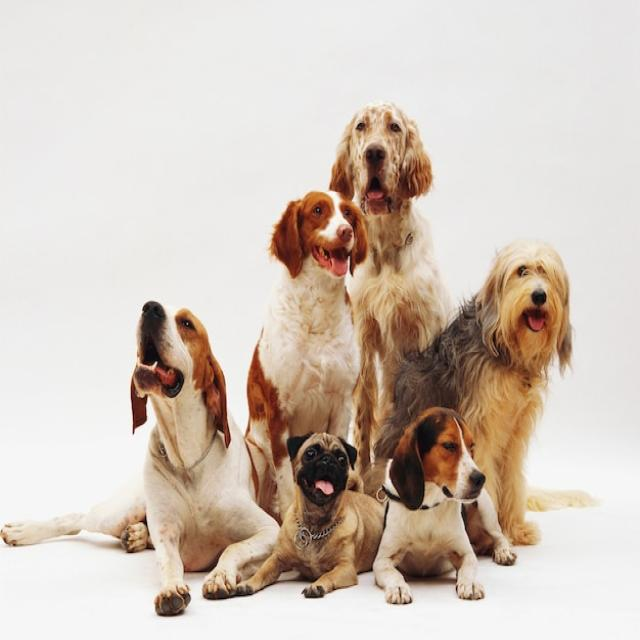Dog: (0, 302, 280, 614), (378, 238, 603, 550), (328, 104, 452, 493), (246, 192, 366, 518), (376, 402, 515, 606), (236, 430, 386, 600)
